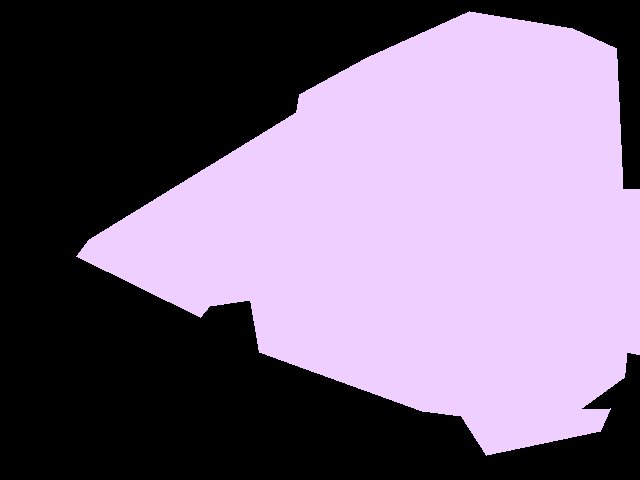Train: (76, 11, 629, 456), (622, 189, 640, 356)
